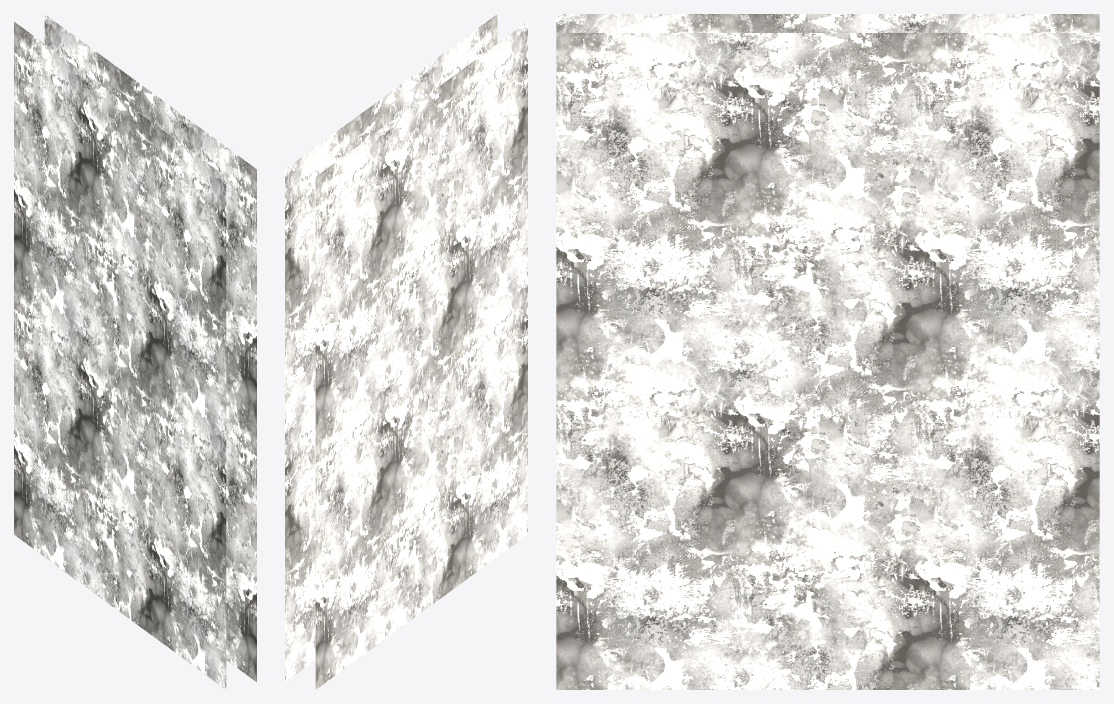
Rendered from SM_wall_A_int_3x4_01_01.fbx.
3 renders of one model, left to right at view 1: azimuth 30°, elevation 25°; view 2: azimuth 150°, elevation 25°; view 3: azimuth 270°, elevation 25°, orthographic. The views are drawn at different scales.
Parts seen in each view (by area): view 1: SM_wall_A_int_3x4_01_01_LOD0; view 2: SM_wall_A_int_3x4_01_01_LOD0; view 3: SM_wall_A_int_3x4_01_01_LOD0.
Boxes of the visible parts, left/top/right/bottom form: SM_wall_A_int_3x4_01_01_LOD0: left=14, top=14, right=256, bottom=689; SM_wall_A_int_3x4_01_01_LOD0: left=285, top=14, right=527, bottom=689; SM_wall_A_int_3x4_01_01_LOD0: left=556, top=14, right=1099, bottom=689.
Bounding box in the file's own units: 25 × 300 × 400.
1 material, 1 textured.
